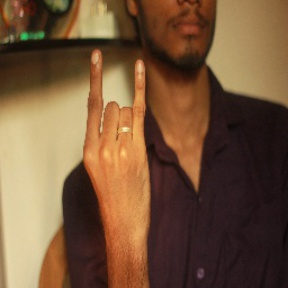V: (77, 45, 155, 216)
